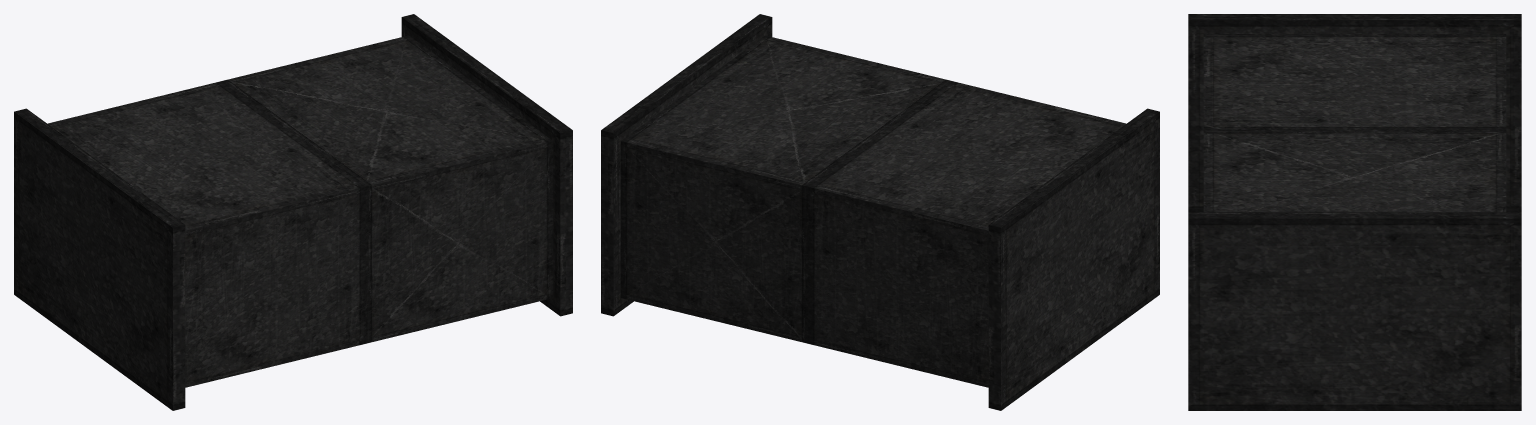
File: p6_duct_rect_sml_32_white_lod0.glb
3 views of the same model, side by side, from view 1: azimuth 30°, elevation 25°; view 2: azimuth 150°, elevation 25°; view 3: azimuth 270°, elevation 25° (orthographic). The views are drawn at different scales.
Parts seen in each view (by area): view 1: surf0; view 2: surf0; view 3: surf0.
Boxes of the visible parts, <box> form: surf0: <box>14,14,572,410</box>; surf0: <box>601,14,1159,410</box>; surf0: <box>1188,14,1521,410</box>.
Size of the model in its own units: 32 by 14 by 22.
